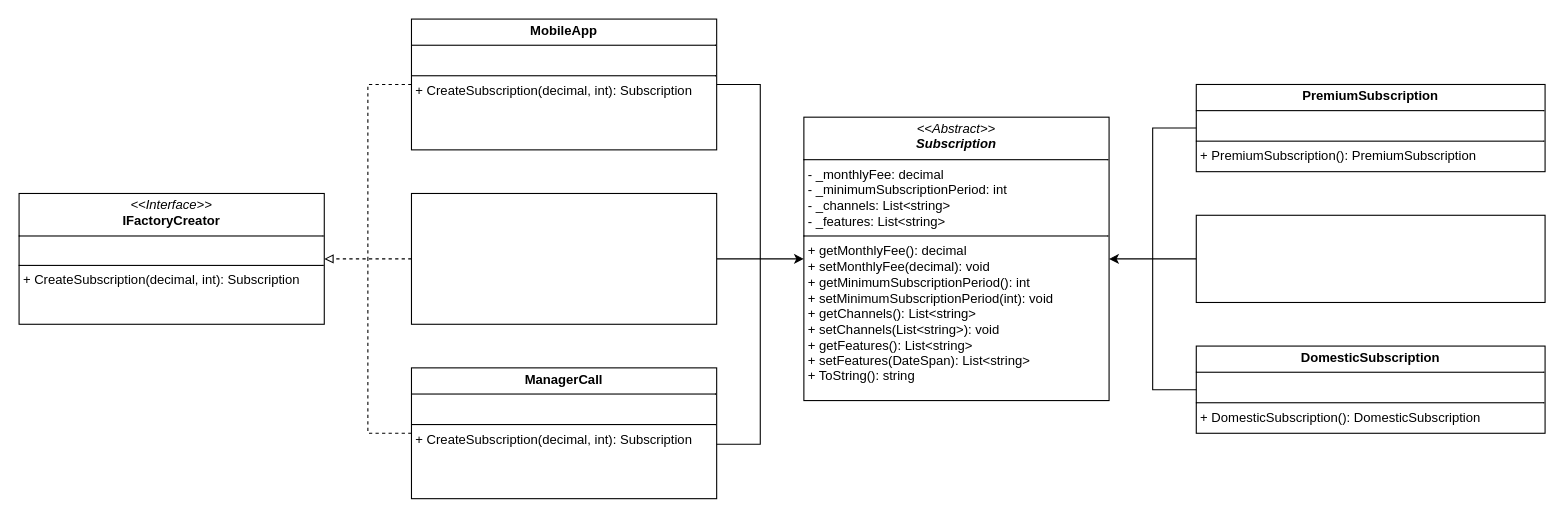
The diagram is 1564 pixels wide and 518 high, and some of its shapes have lost their labels. The shapes that lost their labels are listed below. From the top down, each one's centre as x and y in pixels, then its label:
At (563,258): "WebSite + CreateSubscription(decimal, int): Subscription".
At (1370,258): "EducationalSubscription + EducationalSubscription (): EducationalSubscription".
